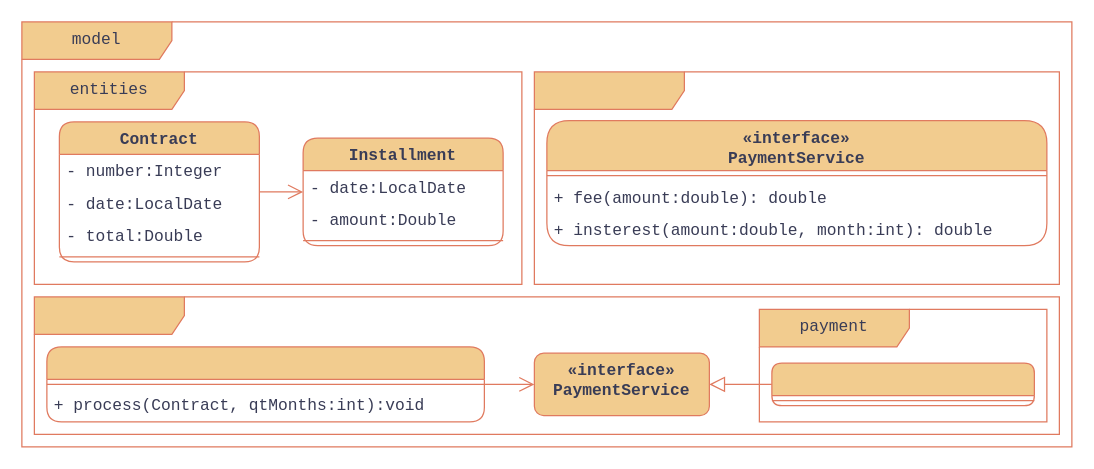
The diagram is 1094 pixels wide and 469 high, and some of its shapes have lost their labels. Each missing label, with the box of its shape:
ContractProcessor: (46, 346, 484, 422)
interfaces: (533, 71, 1059, 284)
PaypalPayment: (771, 362, 1034, 406)
services: (33, 296, 1059, 434)
